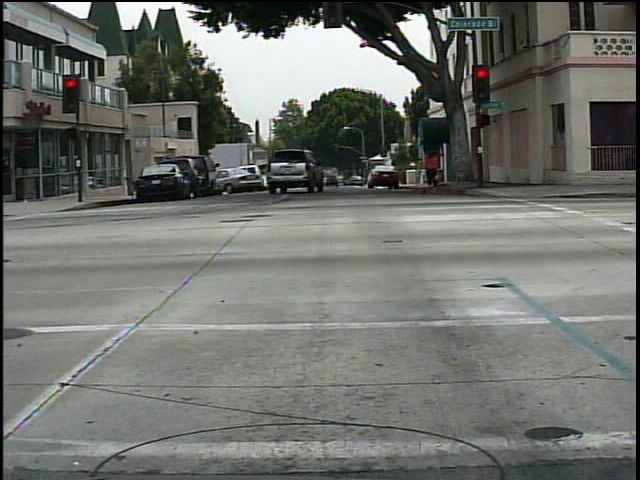person: (418, 148, 446, 197)
